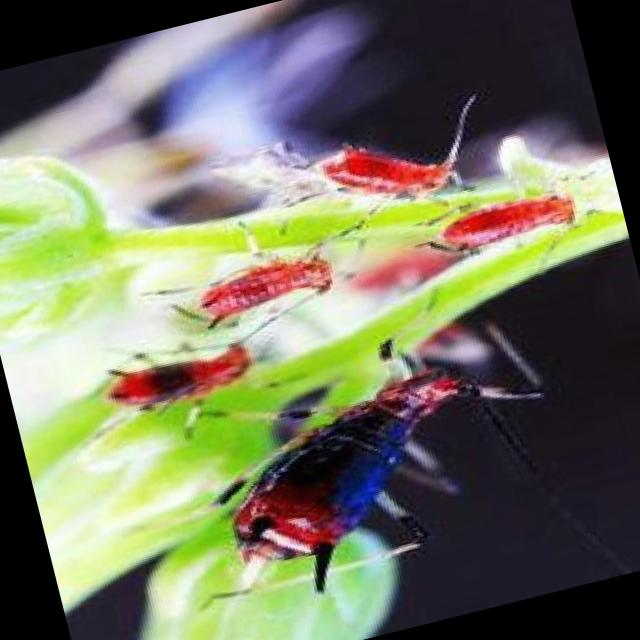aphid: (198, 354, 518, 592), (79, 322, 294, 432), (183, 230, 362, 332), (304, 122, 484, 215), (425, 188, 577, 260)
